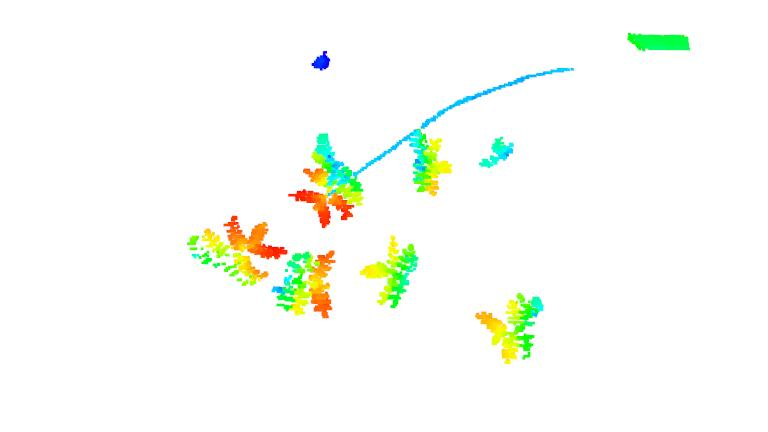chickpea: (185, 214, 289, 288), (288, 133, 367, 229), (474, 289, 543, 366), (271, 248, 343, 321), (359, 234, 423, 310), (405, 129, 455, 198), (476, 133, 516, 170)
